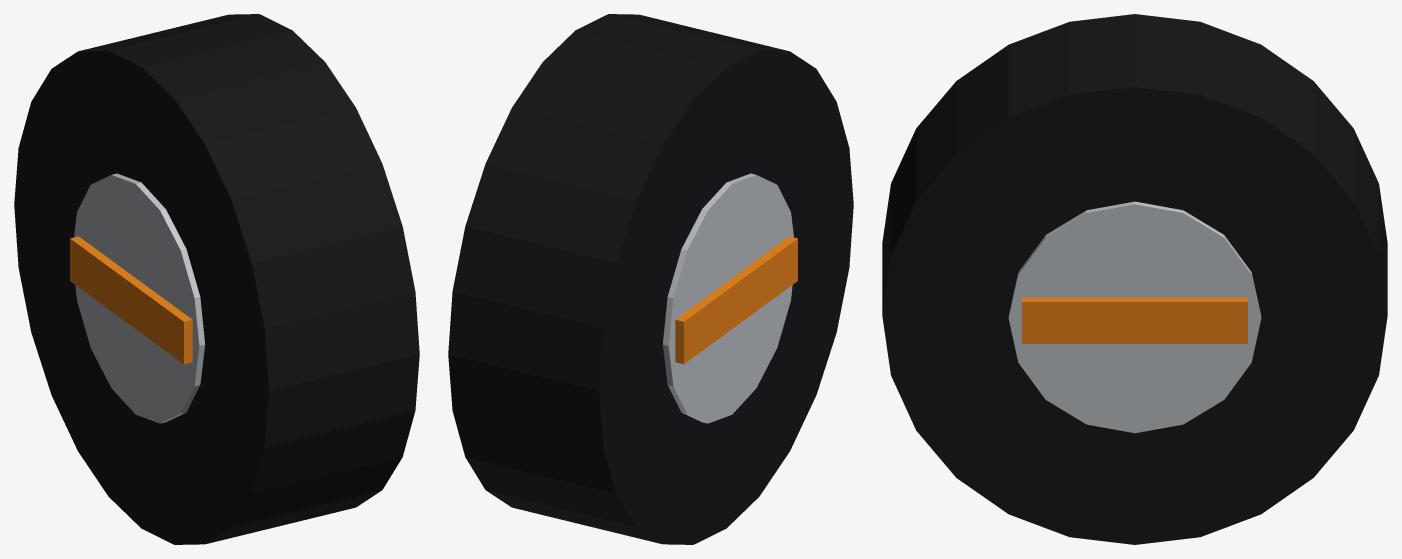
Rendered from alisadora_rueda.obj.
The picture shows the model from 3 angles, left to right: view 1: azimuth 30°, elevation 25°; view 2: azimuth 150°, elevation 25°; view 3: azimuth 270°, elevation 25°; orthographic projection.
Visible parts, largest first — view 1: alisadora_rueda; view 2: alisadora_rueda; view 3: alisadora_rueda.
Part boxes in pixels (x1,y1,x2,y2): alisadora_rueda: (14,14,419,544); alisadora_rueda: (448,14,853,544); alisadora_rueda: (882,14,1387,544).
Size of the model in its own units: 0.31 by 0.76 by 0.76.
1 material, 1 textured.
